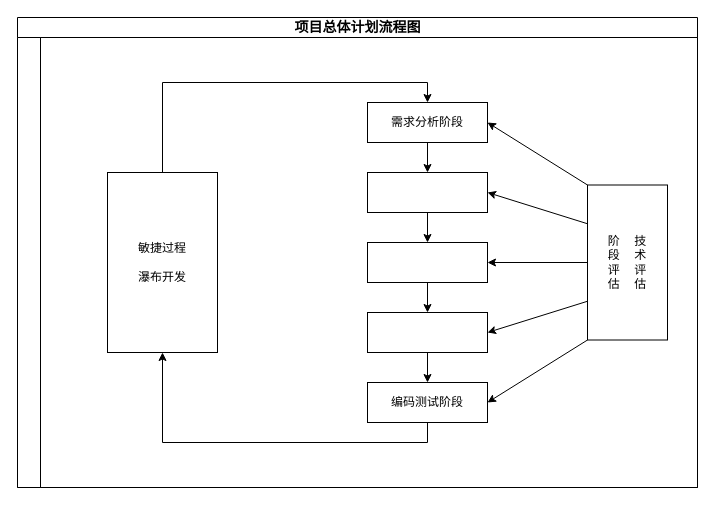
Image size: 715x505. Some labels were removed from this diagram. The shapes that lost their labels are listed below. From the top down, each one's box as (x1, y1, x2, y2) in pixels, then its label:
(366, 172, 488, 212): 概要设计阶段
(366, 242, 488, 282): 数据库设计阶段
(366, 312, 488, 352): 详细设计阶段
